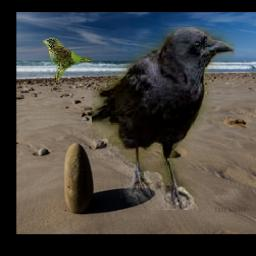Crow: (92, 28, 235, 211)
Sparrow: (44, 38, 94, 82)
